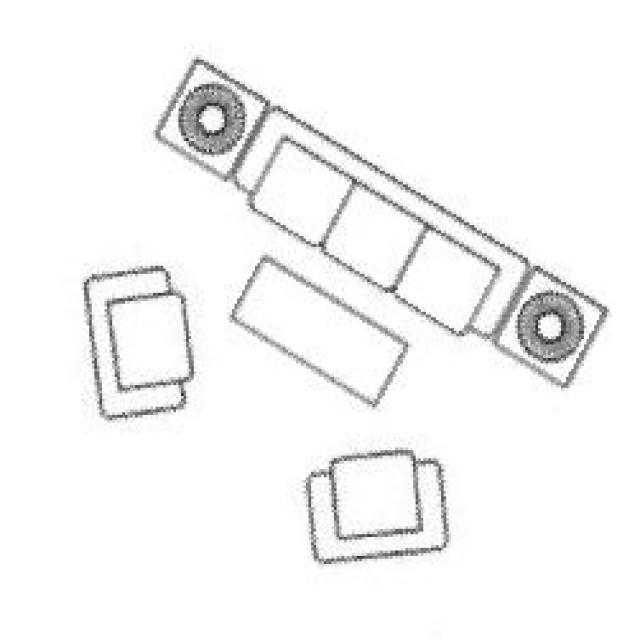sofa: (71, 49, 612, 578)
